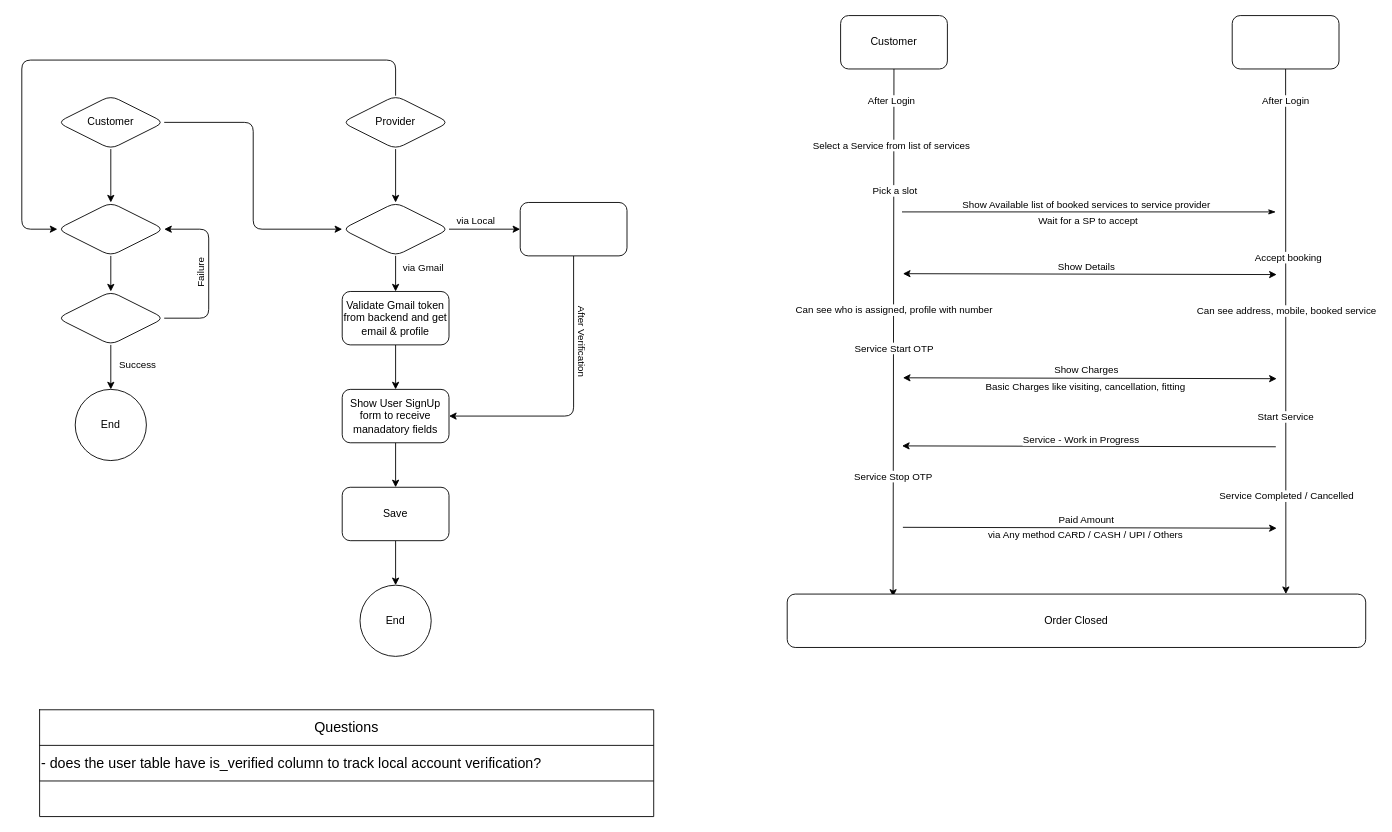
Some shapes in this 1392 by 832 pixel diagram are drawn without their labels. The centre of each missing label's shape, as x and y in pixels:
"Login" belongs at [110,229].
"Send an email verification link to given email" belongs at [573,229].
"Service Provider" belongs at [1285,42].
"SignUp" belongs at [395,229].
"via Gmail / Local" belongs at [110,318].
